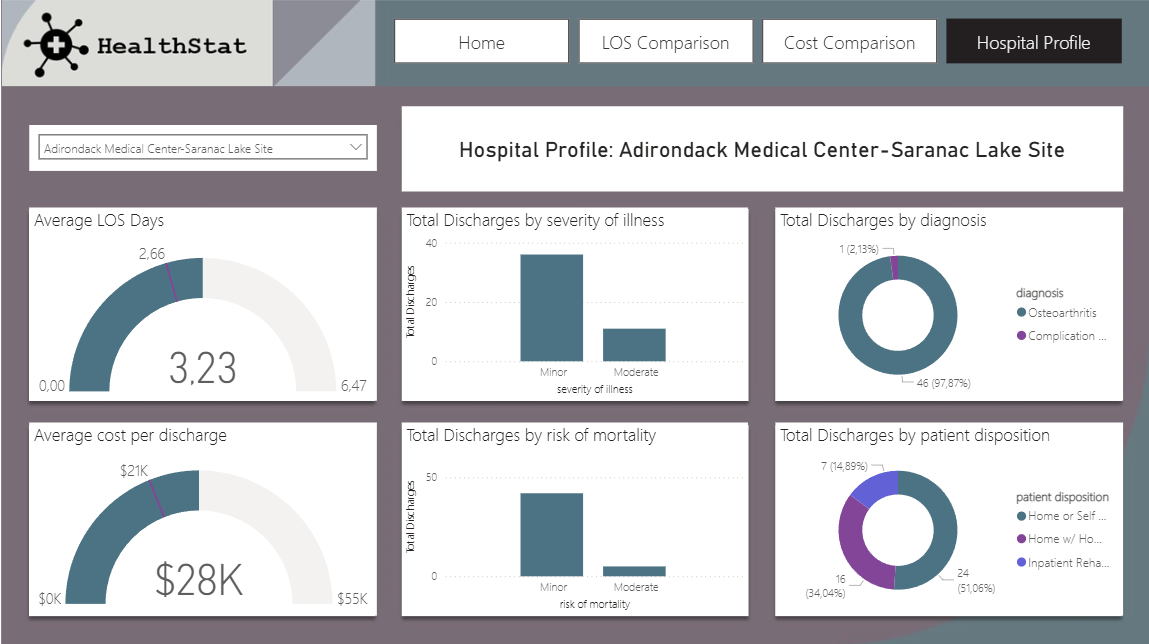

The page's visual inventory and layout, read from the dashboard file:
{"tool":"powerbi","page":{"name":"Hospital Profile","canvas":[1280,720],"ordinal":3},"visuals":[{"type":"image","box":[9.7,0,1270.3,719.8],"z":0},{"type":"gauge","title":"Average LOS Days ","fields":{"Y":["_Measures.Average LOS Days"],"TargetValue":["_Measures.Average LOS ALL"]},"box":[45.7,233.4,381.3,212],"z":1000},{"type":"gauge","title":"Average cost per discharge ","fields":{"Y":["_Measures.Average cost per discharge"],"TargetValue":["_Measures.Average cost per discharge ALL"]},"box":[45.7,468.8,381.3,212],"z":2000},{"type":"clusteredColumnChart","title":"Total Discharges by severity of illness","fields":{"Y":["_Measures.Total Discharges"],"Category":["hospital_discharges.apr_severity_of_illness_description"]},"box":[454.2,233.4,380.3,212],"z":3000},{"type":"clusteredColumnChart","title":"Total Discharges by risk of mortality","fields":{"Y":["_Measures.Total Discharges"],"Category":["hospital_discharges.apr_risk_of_mortality"]},"box":[454.2,468.8,380.3,212],"z":4000},{"type":"donutChart","title":"Total Discharges by diagnosis","fields":{"Y":["_Measures.Total Discharges"],"Category":["hospital_discharges.ccs_diagnosis_description"]},"box":[864.7,233.4,381.3,212],"z":5000},{"type":"donutChart","title":"Total Discharges by patient disposition","fields":{"Y":["_Measures.Total Discharges"],"Category":["hospital_discharges.patient_disposition"]},"box":[864.7,468.8,381.3,212],"z":6000},{"type":"slicer","fields":{"Values":["hospital_discharges.facility_name"]},"box":[45.7,143,381.3,50.6],"z":7000},{"type":"card","fields":{"Values":["_Measures.Title Selected Facility"]},"box":[454.2,121.6,791.7,93.4],"z":8000},{"type":"pageNavigator","box":[445.5,26.3,800.5,49.6],"z":9000}]}

Visuals, with their boxes in screenshot pixels (x1, y1, x2, y2), scaled from the page's 1280x720 canvas onto the 1149x644 screenshot:
image: locate(9, 0, 1148, 643)
"Average LOS Days " gauge: locate(41, 209, 383, 398)
"Average cost per discharge " gauge: locate(41, 419, 383, 609)
"Total Discharges by severity of illness" clusteredColumnChart: locate(408, 209, 749, 398)
"Total Discharges by risk of mortality" clusteredColumnChart: locate(408, 419, 749, 609)
"Total Discharges by diagnosis" donutChart: locate(776, 209, 1118, 398)
"Total Discharges by patient disposition" donutChart: locate(776, 419, 1118, 609)
slicer - hospital_discharges.facility_name: locate(41, 128, 383, 173)
card - _Measures.Title Selected Facility: locate(408, 109, 1118, 192)
pageNavigator: locate(400, 24, 1118, 68)
